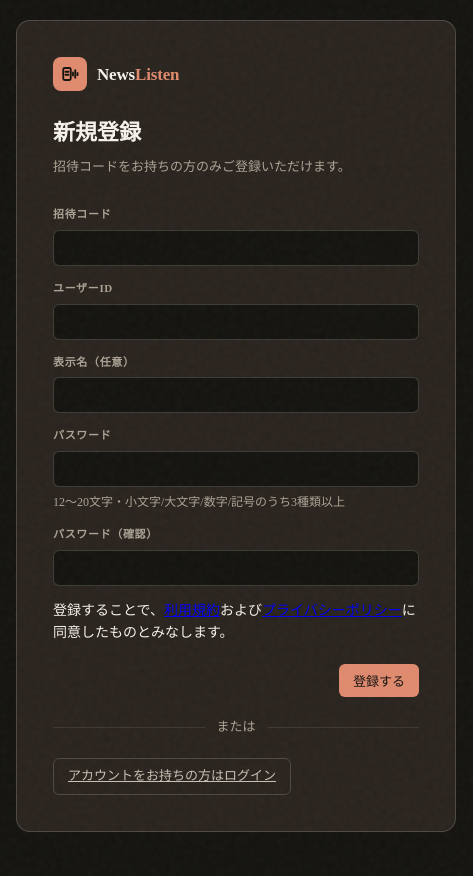
Test: SignupPage — client-side validation › shows an error when the username fails the allowed pattern
Type "A!" into the field labelled "ユーザーID" at [236, 322], box x1=53 y1=304 x2=419 y2=340
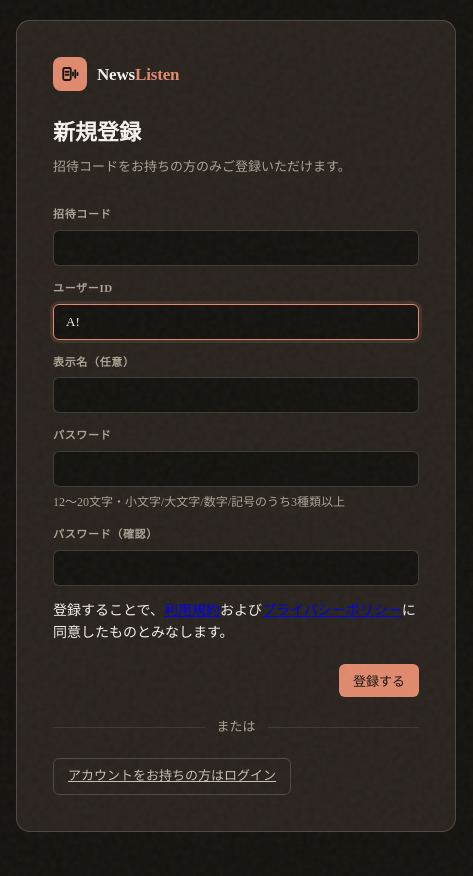
Type "Sup3r-Secret!!" into the password field labelled "パスワード" at [236, 469], box x1=53 y1=451 x2=419 y2=487
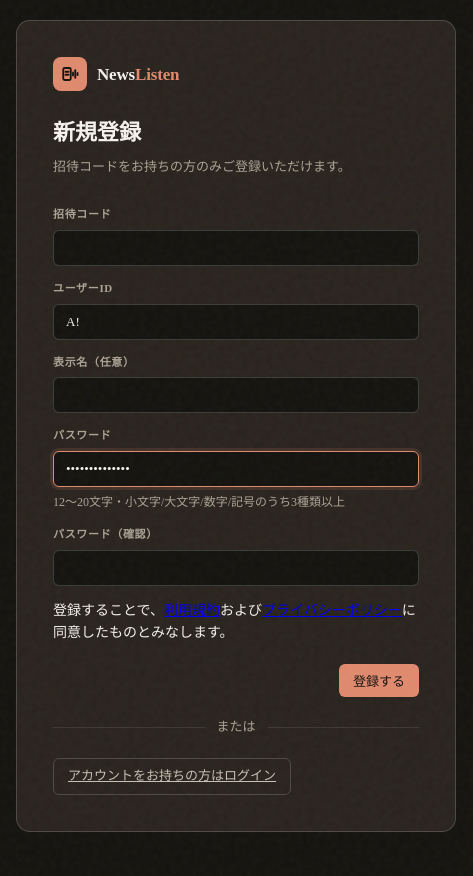
Type "Sup3r-Secret!!" into the password field labelled "パスワード（確認）" at [236, 568], box x1=53 y1=550 x2=419 y2=586
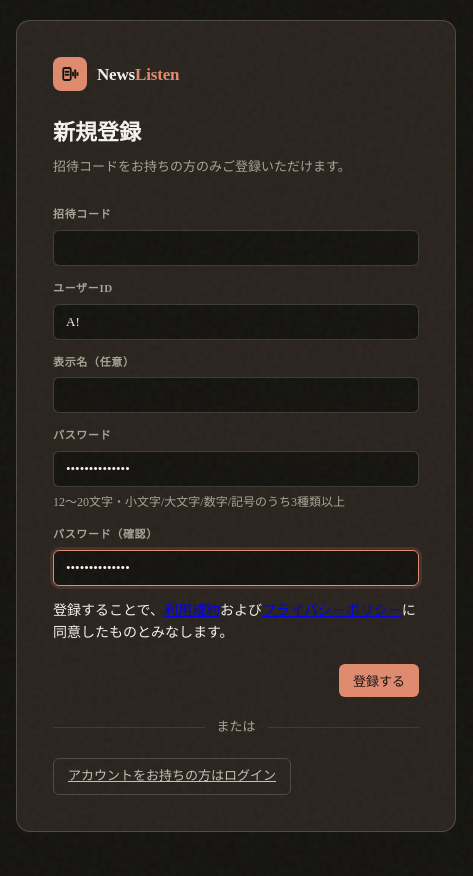
Click the button "登録する" at [379, 681], box x1=339 y1=664 x2=419 y2=697
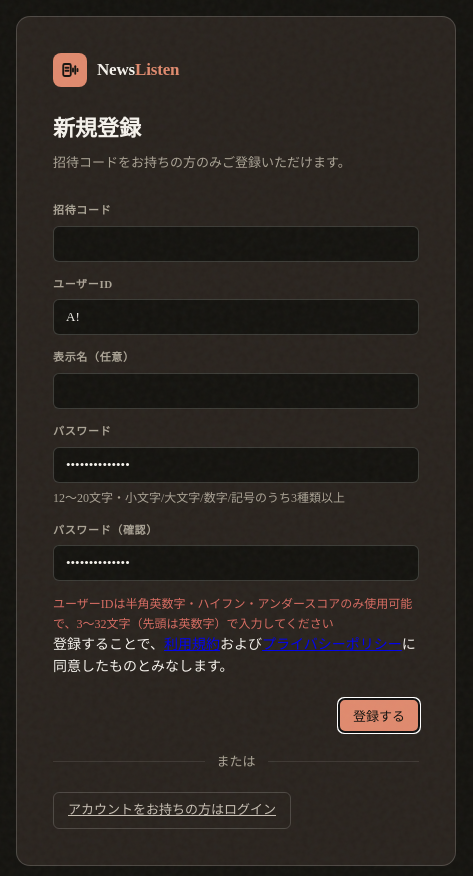
Expected: the text "ユーザーIDは半角英数字・ハイフン・アンダースコアのみ使用可能で、3〜32文字（先頭は英数字）で入力してください" is shown, x1=53 y1=595 x2=419 y2=634
